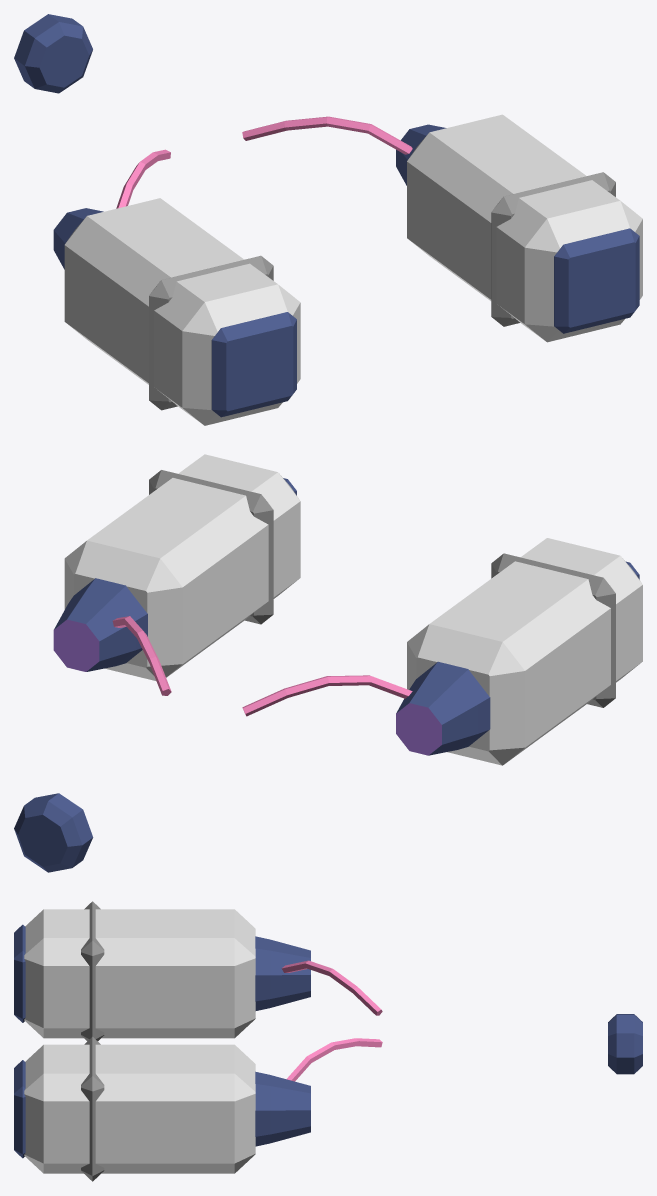
File: engine_star.obj
The picture shows the model from 3 angles, top to bottom: view 1: azimuth 30°, elevation 25°; view 2: azimuth 150°, elevation 25°; view 3: azimuth 270°, elevation 25°; orthographic projection. The views are drawn at different scales.
Bounding box in the file's own units: 3 × 0.8 × 4.32.
